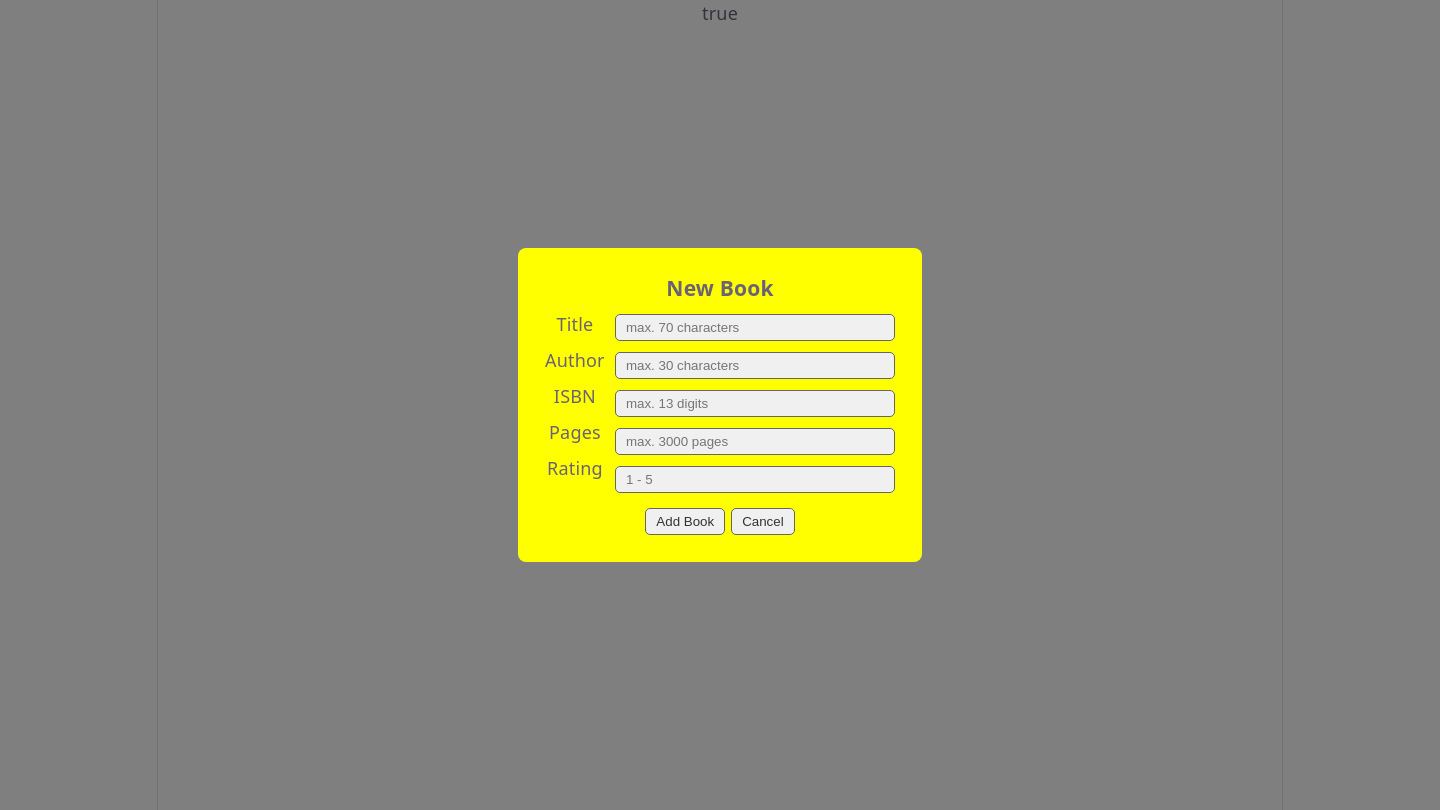
Test: BookForm component › should change state to false when Add Book button is clicked
Type "Test Book" into the field with placeholder "max. 70 characters" at [755, 328], box [615,314,895,341]
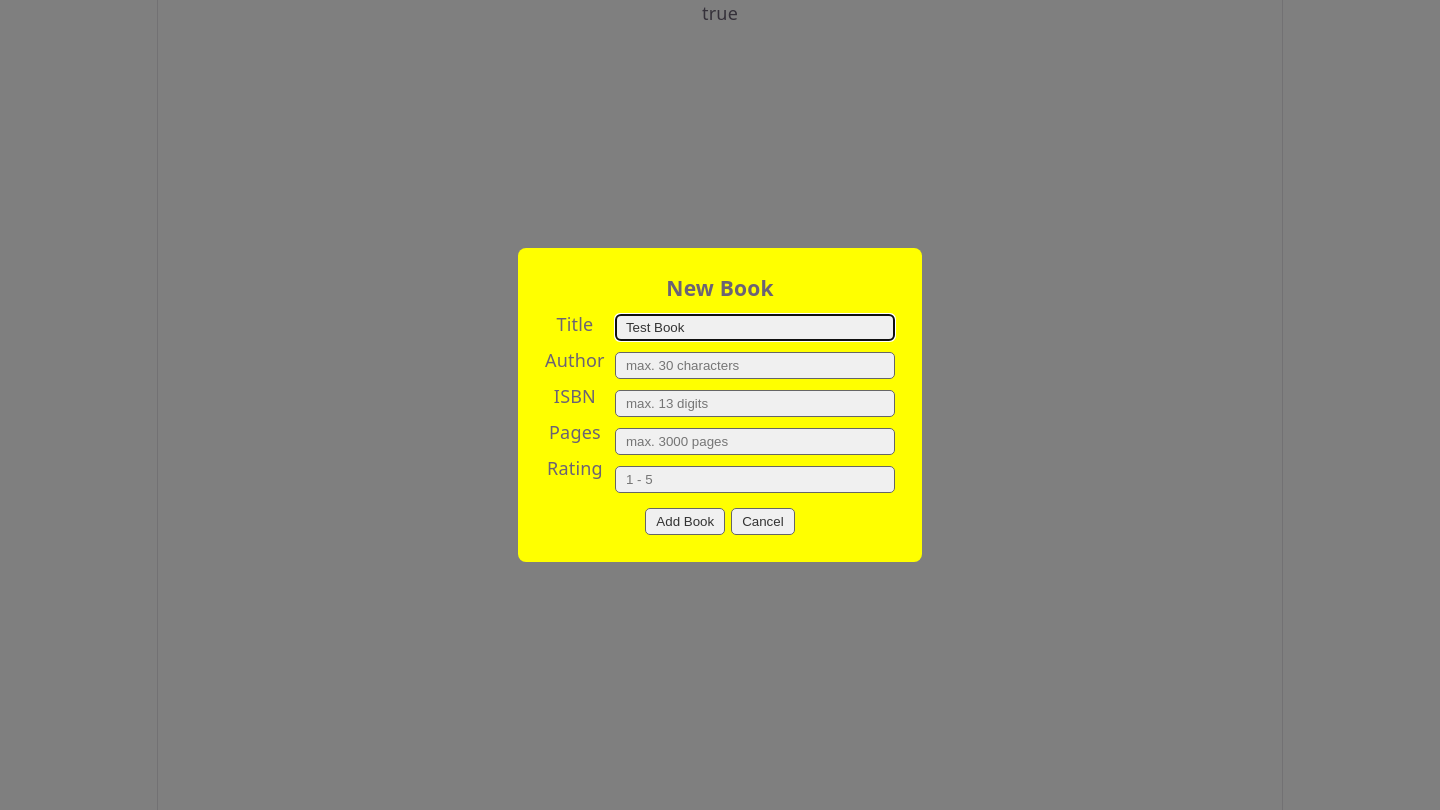
Type "Test Author" into the field with placeholder "max. 30 characters" at [755, 366], box [615,352,895,379]
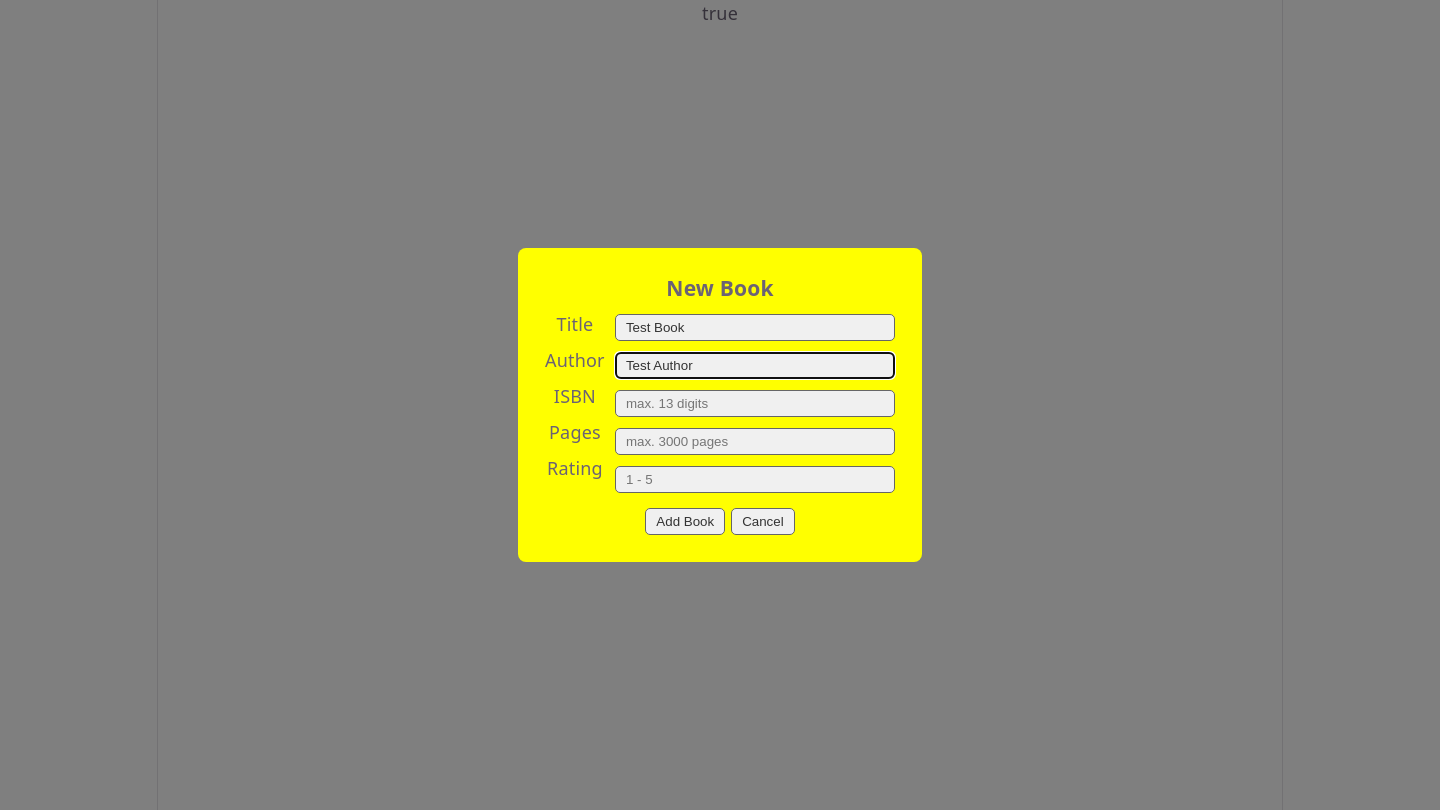
Type "1234567890123" into the number field with placeholder "max. 13 digits" at [755, 404], box [615,390,895,417]
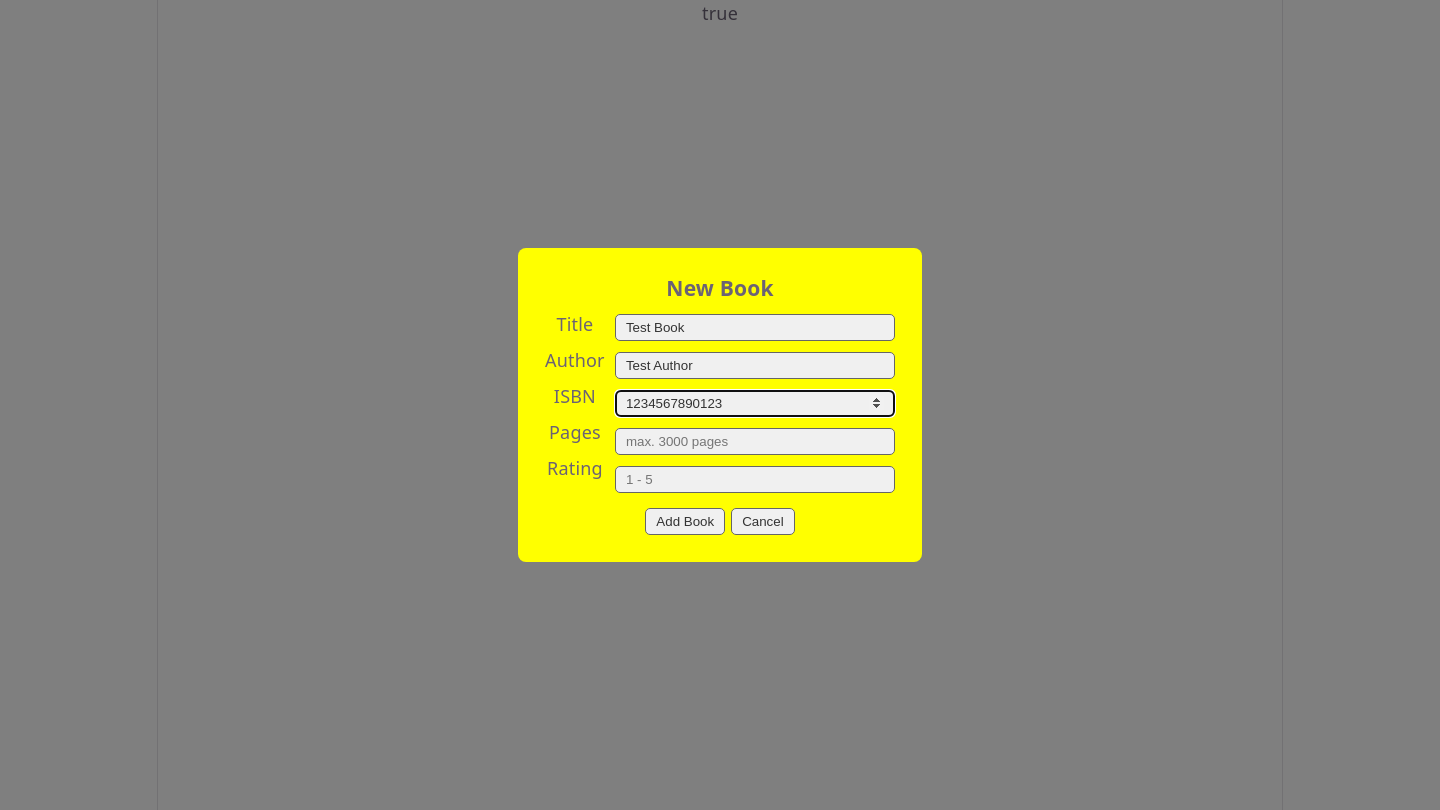
Type "100" into the number field with placeholder "max. 3000 pages" at [755, 442], box [615,428,895,455]
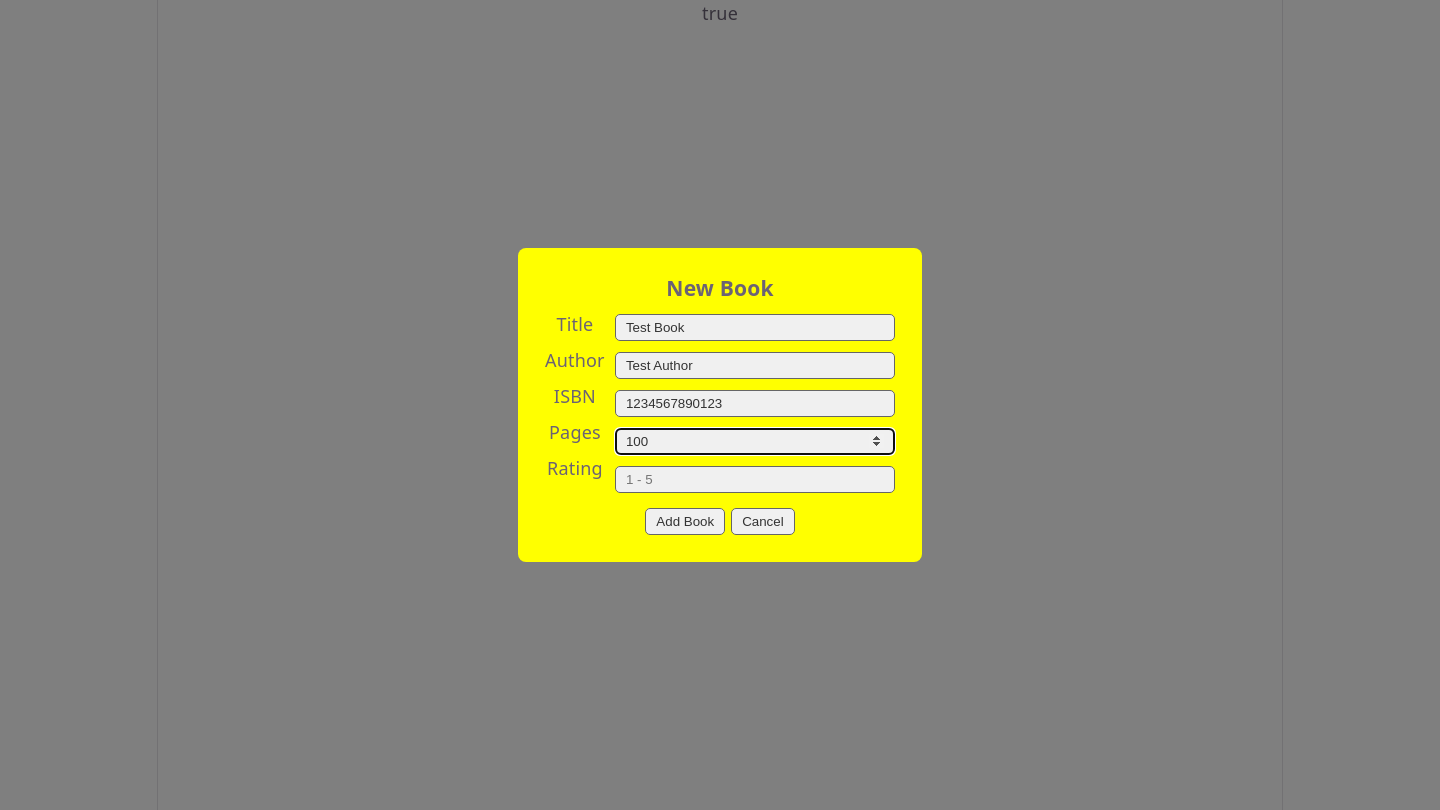
Type "5" into the number field with placeholder "1 - 5" at [755, 480], box [615,466,895,493]
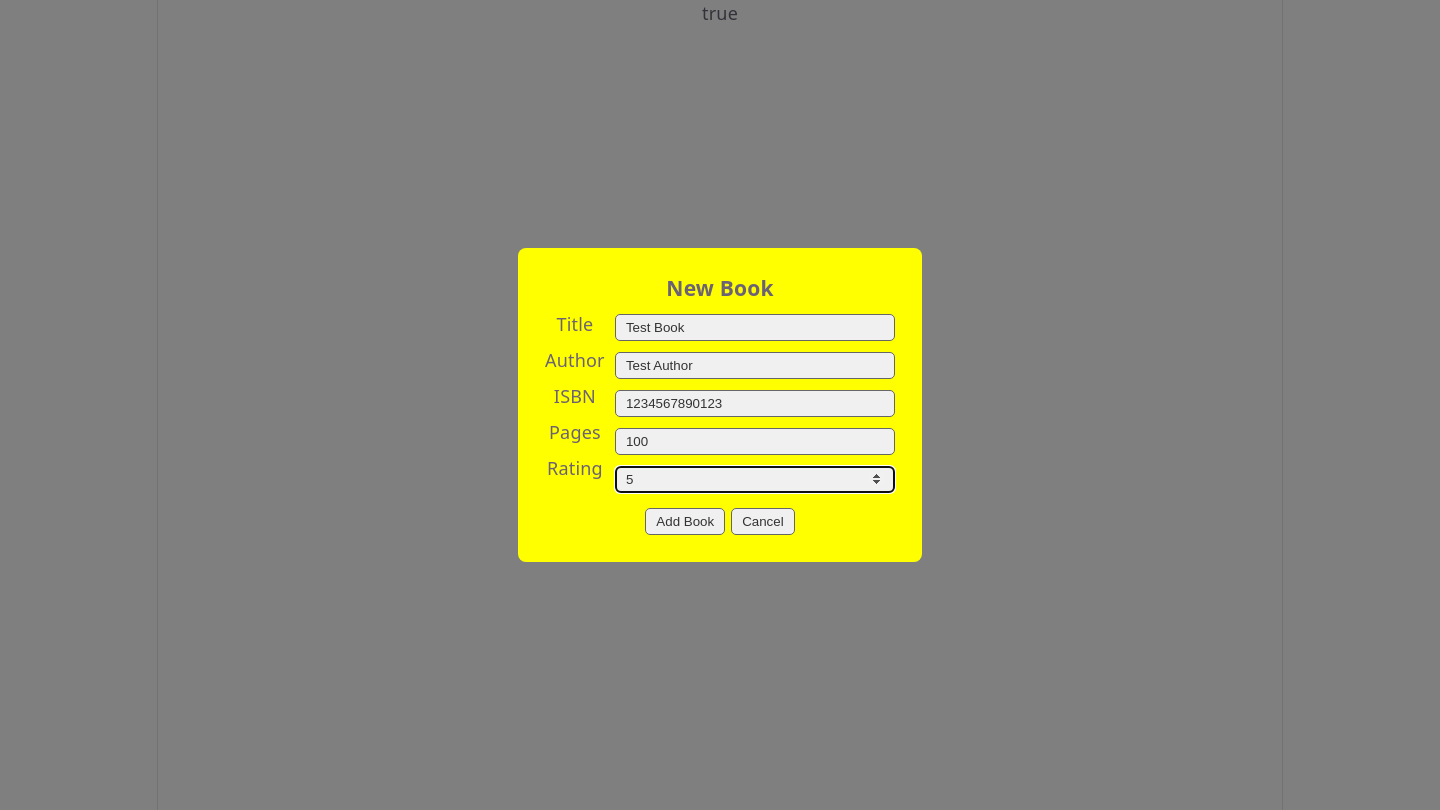
Click the button "Add Book" at [685, 522], box [645,508,725,535]
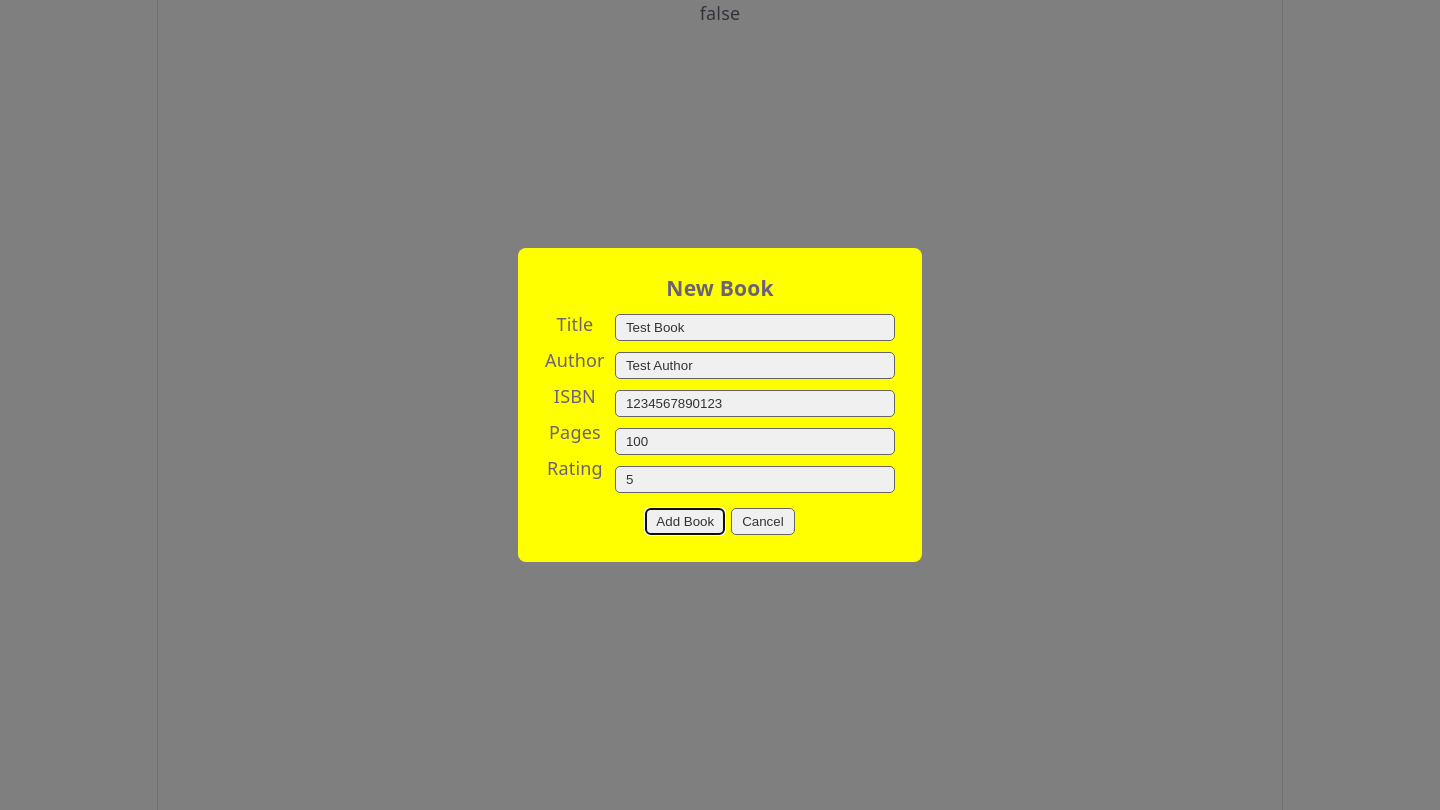
Expected: the text with test id "show-book-form" reads "false", [700,1,740,25]
